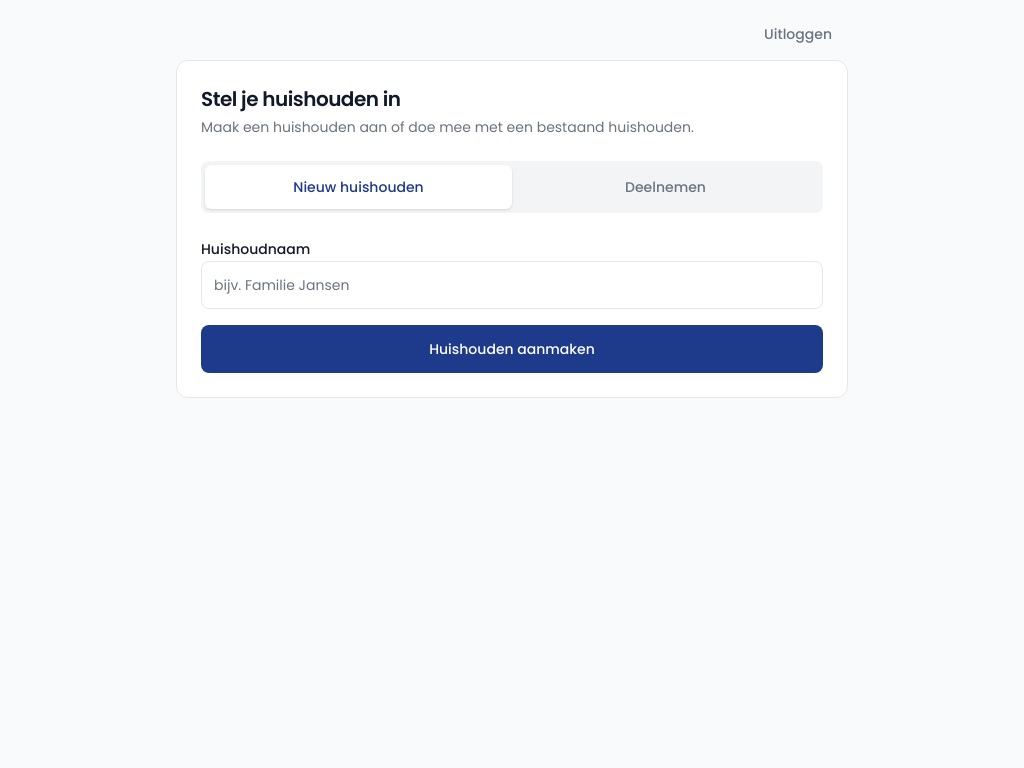
Scenario: HouseholdSetupClient › joining a household › clears the error as soon as the user edits the code again
Click the tab "Deelnemen" at (666, 187), box [512, 165, 819, 209]
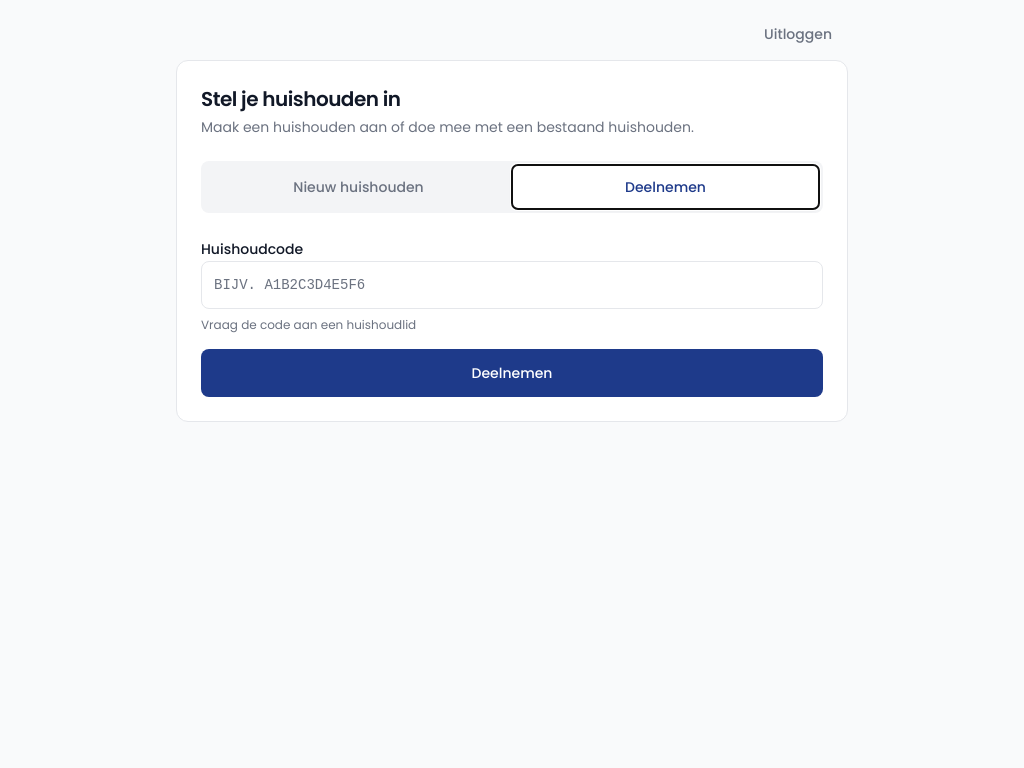
Type "NOPE" into the field labelled "Huishoudcode" at (512, 285), box [201, 261, 823, 309]
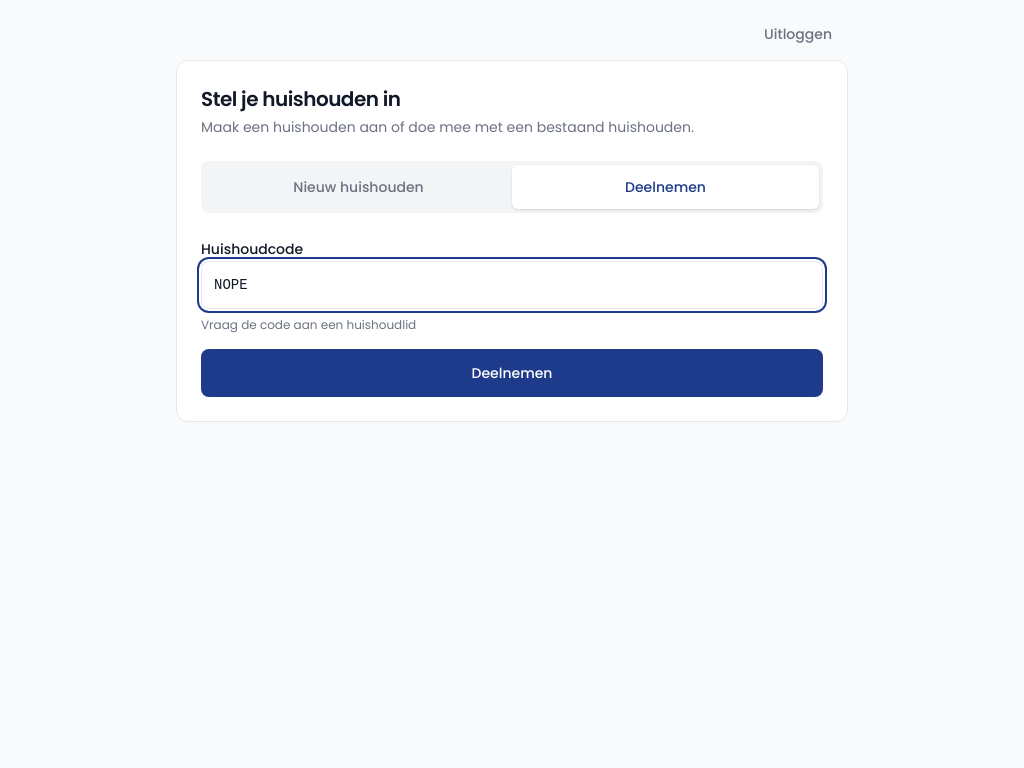
Click the button "Deelnemen" at (512, 373), box [201, 349, 823, 397]
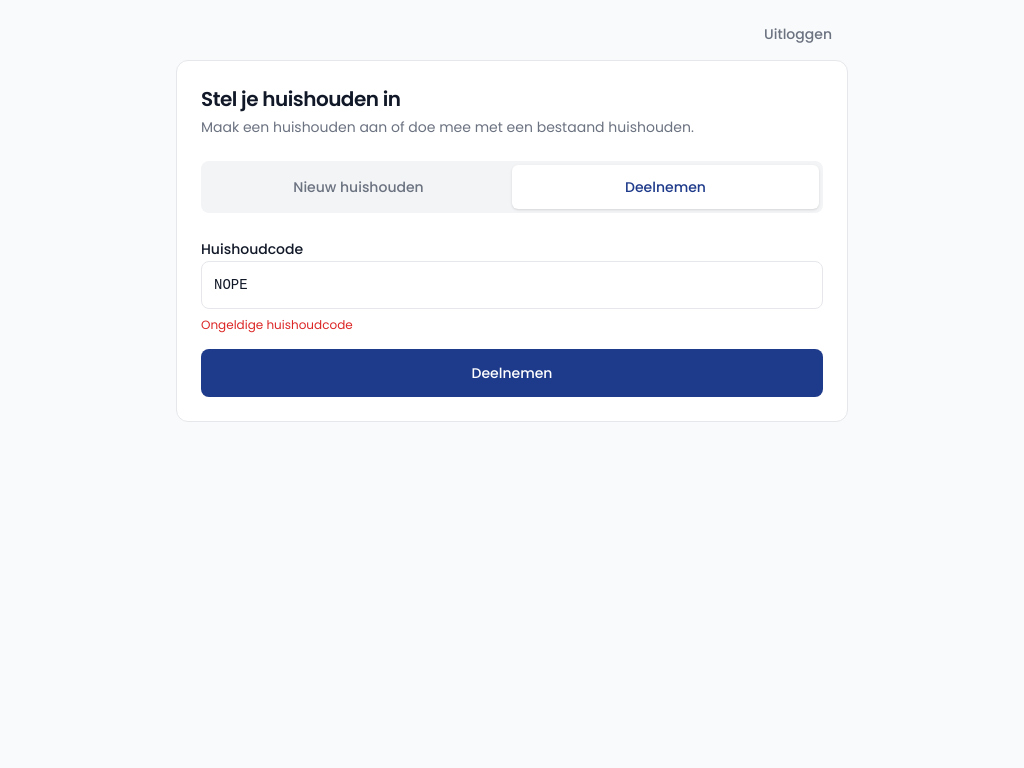
Type "X" into the field labelled "Huishoudcode" at (512, 285), box [201, 261, 823, 309]
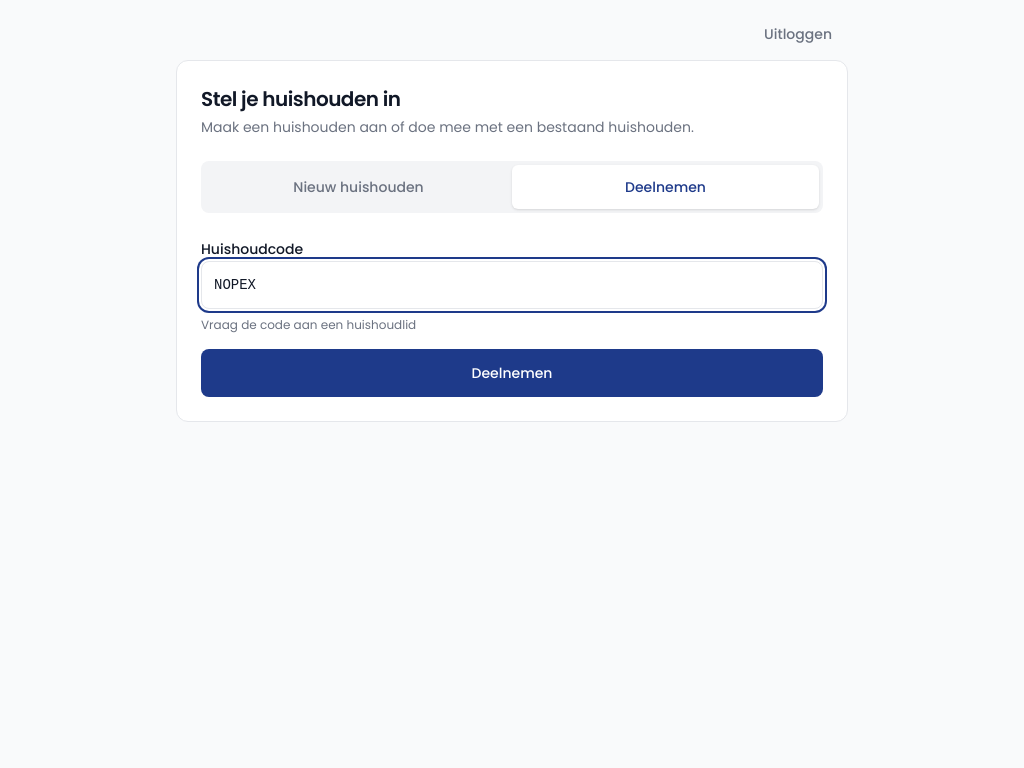
Now the text "Ongeldige huishoudcode" is gone
